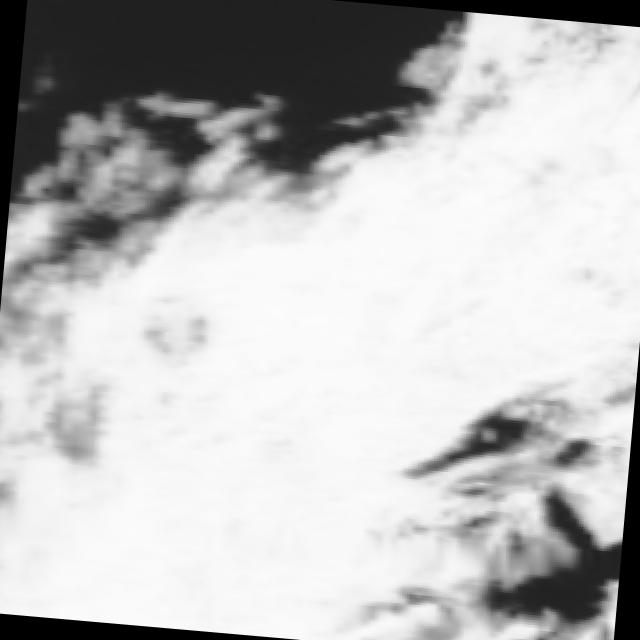CB: (92, 398, 341, 640), (210, 217, 430, 447), (488, 89, 640, 373), (335, 195, 494, 406)
